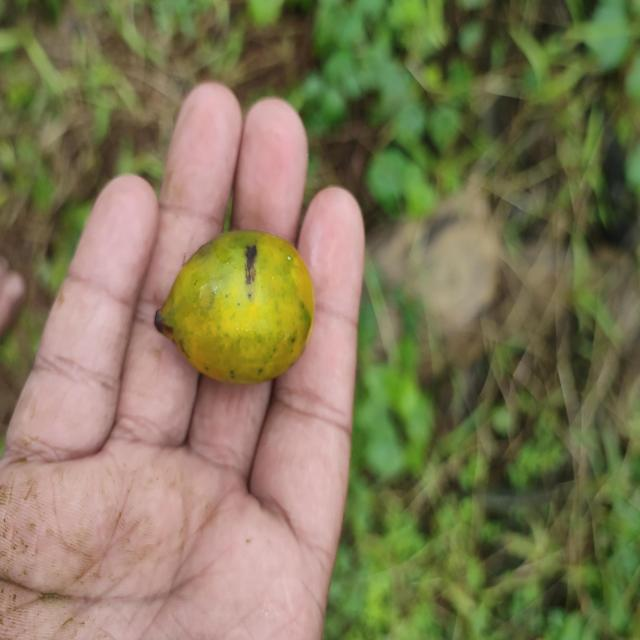damaged: (154, 230, 316, 386)
